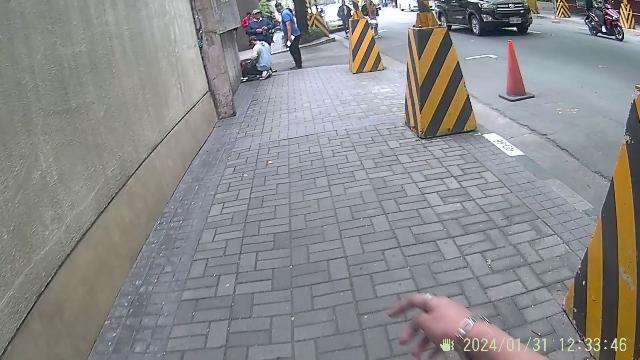construction_materials: (400, 0, 480, 140), (346, 0, 390, 74), (497, 36, 535, 103)
motorcycle: (583, 2, 629, 44)
